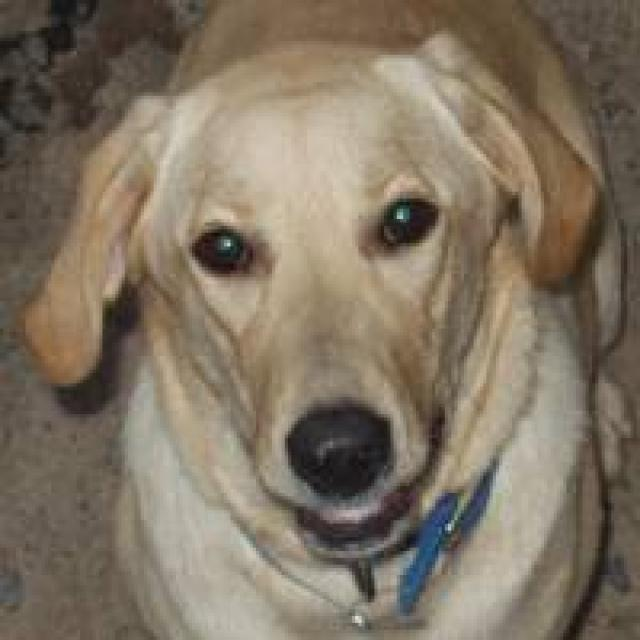Dog: (20, 21, 608, 569)
